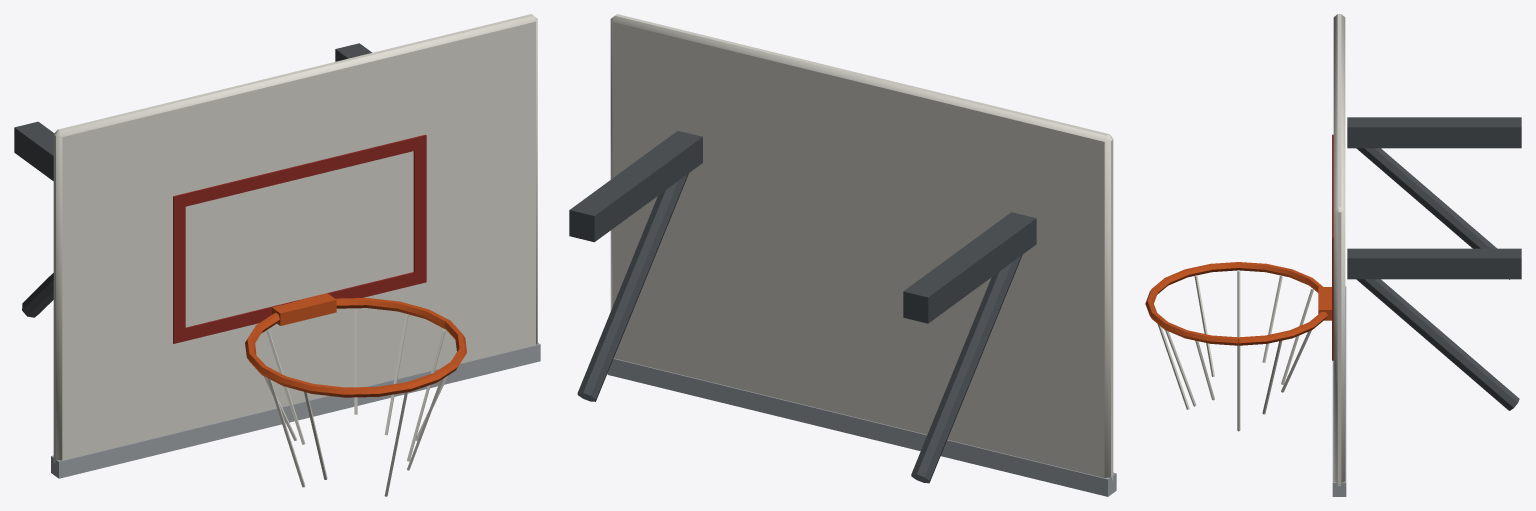
Rendered from basketball_hoop.glb.
3 views of the same model, side by side, from view 1: azimuth 30°, elevation 25°; view 2: azimuth 150°, elevation 25°; view 3: azimuth 270°, elevation 25° (orthographic). The views are drawn at different scales.
Visible parts, largest first — view 1: Hoop; view 2: Hoop; view 3: Hoop.
Boxes of the visible parts, x1,y1,x2,y2 form: Hoop: (14,14,540,496); Hoop: (569,14,1116,496); Hoop: (1145,14,1521,496).
Size of the model in its own units: 1.2 by 0.8512 by 0.971.
